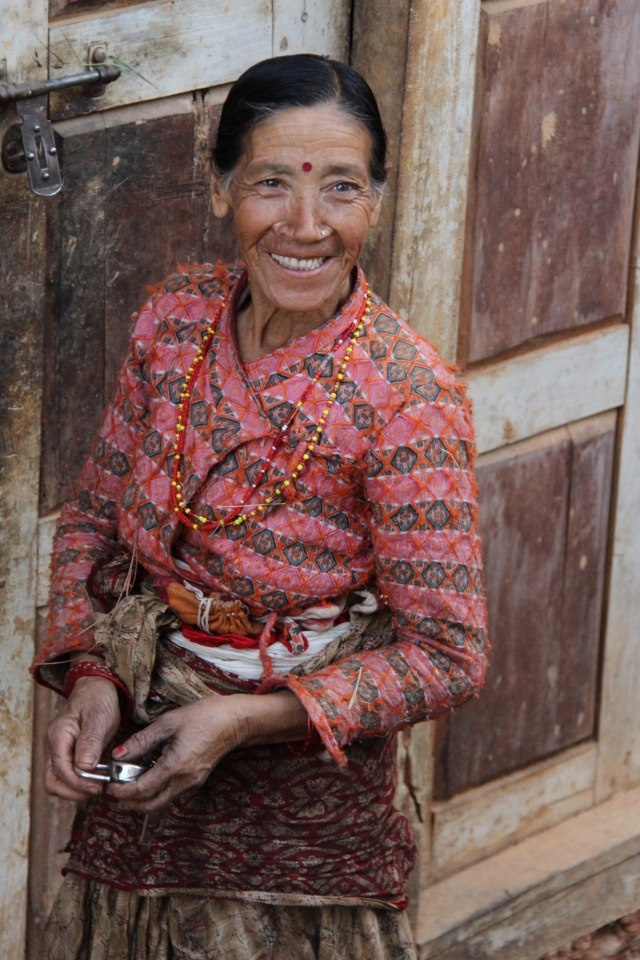human: (15, 45, 521, 960)
